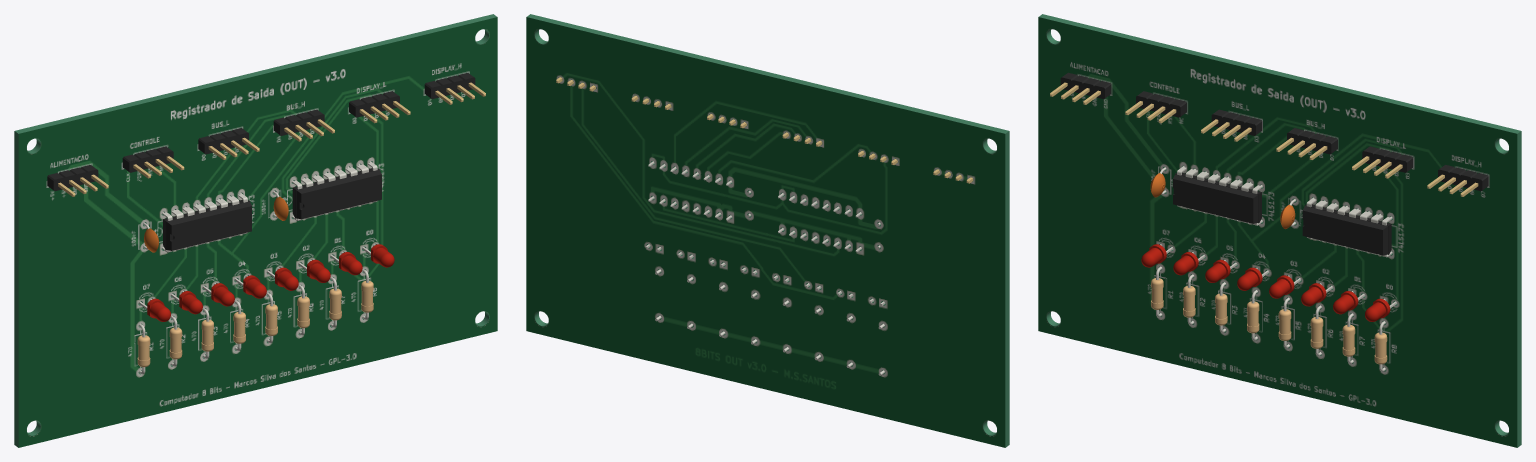
File: out-registrador-saida.glb
The picture shows the model from 3 angles, left to right: view 1: azimuth 30°, elevation 25°; view 2: azimuth 150°, elevation 25°; view 3: azimuth 330°, elevation 25°; orthographic projection.
Parts seen in each view (by area): view 1: superficie_topo, =>[0:1:1:12], =>[0:1:1:11]_1_641d21, =>[0:1:1:11]_3c43e4, =>[0:1:1:5]_1_c592ee, =>[0:1:1:5]_4_4afb56, =>[0:1:1:5]_d1284d, =>[0:1:1:5]_2_851f13, =>[0:1:1:5]_5_337bcc, =>[0:1:1:5]_3_59c03a, =>[0:1:1:11]_f44a14, =>[0:1:1:11]_1_06d3bc; view 2: superficie_fundo, =>[0:1:1:12]; view 3: superficie_topo, =>[0:1:1:12], =>[0:1:1:11]_1_641d21, =>[0:1:1:11]_3c43e4, =>[0:1:1:5]_3_59c03a, =>[0:1:1:5]_5_337bcc, =>[0:1:1:5]_2_851f13, =>[0:1:1:5]_d1284d, =>[0:1:1:5]_4_4afb56, =>[0:1:1:5]_1_c592ee, =>[0:1:1:11]_f44a14, =>[0:1:1:11]_1_06d3bc.
Part boxes in pixels (bbox=[...]): superficie_topo: bbox=[18, 17, 497, 447]; =>[0:1:1:12]: bbox=[14, 14, 496, 447]; =>[0:1:1:11]_1_641d21: bbox=[292, 168, 381, 219]; =>[0:1:1:11]_3c43e4: bbox=[163, 199, 251, 250]; =>[0:1:1:5]_1_c592ee: bbox=[424, 72, 475, 99]; =>[0:1:1:5]_4_4afb56: bbox=[273, 109, 324, 135]; =>[0:1:1:5]_d1284d: bbox=[122, 146, 173, 172]; =>[0:1:1:5]_2_851f13: bbox=[47, 165, 98, 191]; =>[0:1:1:5]_5_337bcc: bbox=[349, 91, 399, 117]; =>[0:1:1:5]_3_59c03a: bbox=[198, 128, 248, 154]; =>[0:1:1:11]_f44a14: bbox=[162, 193, 247, 252]; =>[0:1:1:11]_1_06d3bc: bbox=[292, 161, 377, 220]; superficie_fundo: bbox=[526, 17, 1005, 447]; =>[0:1:1:12]: bbox=[527, 14, 1009, 447]; superficie_topo: bbox=[1038, 17, 1517, 447]; =>[0:1:1:12]: bbox=[1039, 14, 1521, 447]; =>[0:1:1:11]_1_641d21: bbox=[1302, 204, 1391, 255]; =>[0:1:1:11]_3c43e4: bbox=[1173, 172, 1261, 223]; =>[0:1:1:5]_3_59c03a: bbox=[1211, 109, 1262, 135]; =>[0:1:1:5]_5_337bcc: bbox=[1362, 146, 1413, 172]; =>[0:1:1:5]_2_851f13: bbox=[1060, 72, 1111, 99]; =>[0:1:1:5]_d1284d: bbox=[1136, 91, 1186, 117]; =>[0:1:1:5]_4_4afb56: bbox=[1287, 128, 1337, 154]; =>[0:1:1:5]_1_c592ee: bbox=[1438, 165, 1488, 191]; =>[0:1:1:11]_f44a14: bbox=[1177, 166, 1262, 225]; =>[0:1:1:11]_1_06d3bc: bbox=[1306, 197, 1392, 257].
Size of the model in its own units: 0.1095 by 0.0686 by 0.0118.
Materials: 8 (2 with a texture image).
